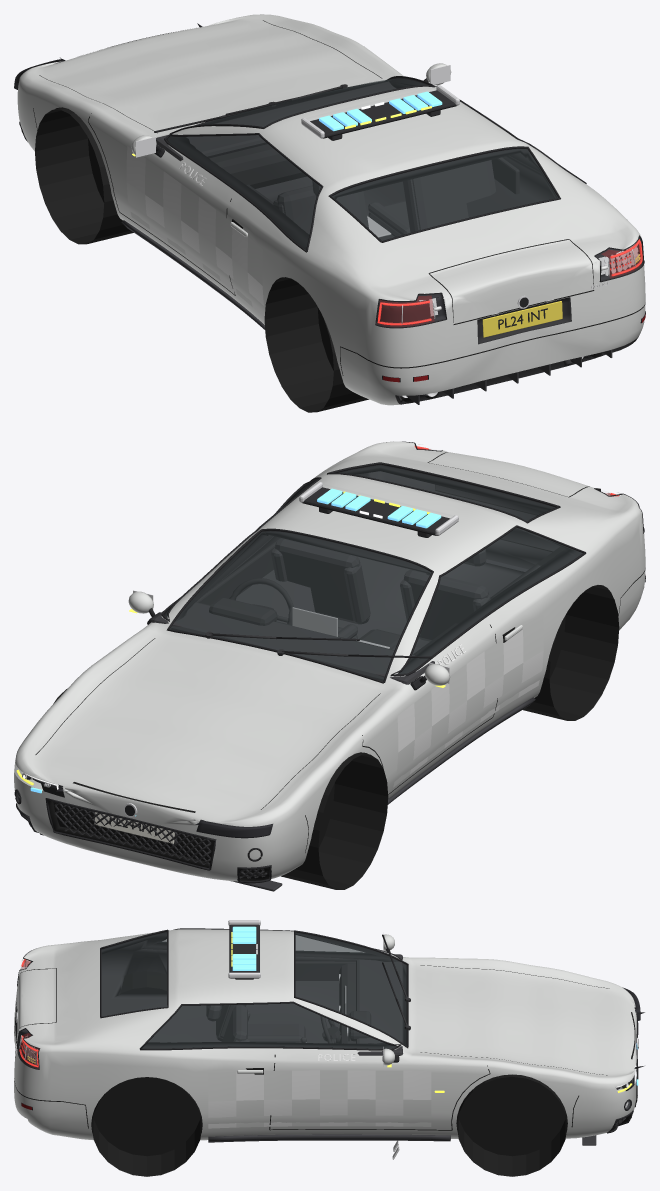
Rendered from police_interceptor.glb.
The picture shows the model from 3 angles, top to bottom: view 1: azimuth 30°, elevation 25°; view 2: azimuth 150°, elevation 25°; view 3: azimuth 270°, elevation 25°; orthographic projection. The views are drawn at different scales.
Parts seen in each view (by area): view 1: police_interceptor; view 2: police_interceptor; view 3: police_interceptor.
Boxes of the visible parts, <box> form: police_interceptor: <box>14,14,645,412</box>; police_interceptor: <box>14,441,645,891</box>; police_interceptor: <box>14,920,644,1176</box>.
Size of the model in its own units: 2.09 by 1.44 by 4.53.
